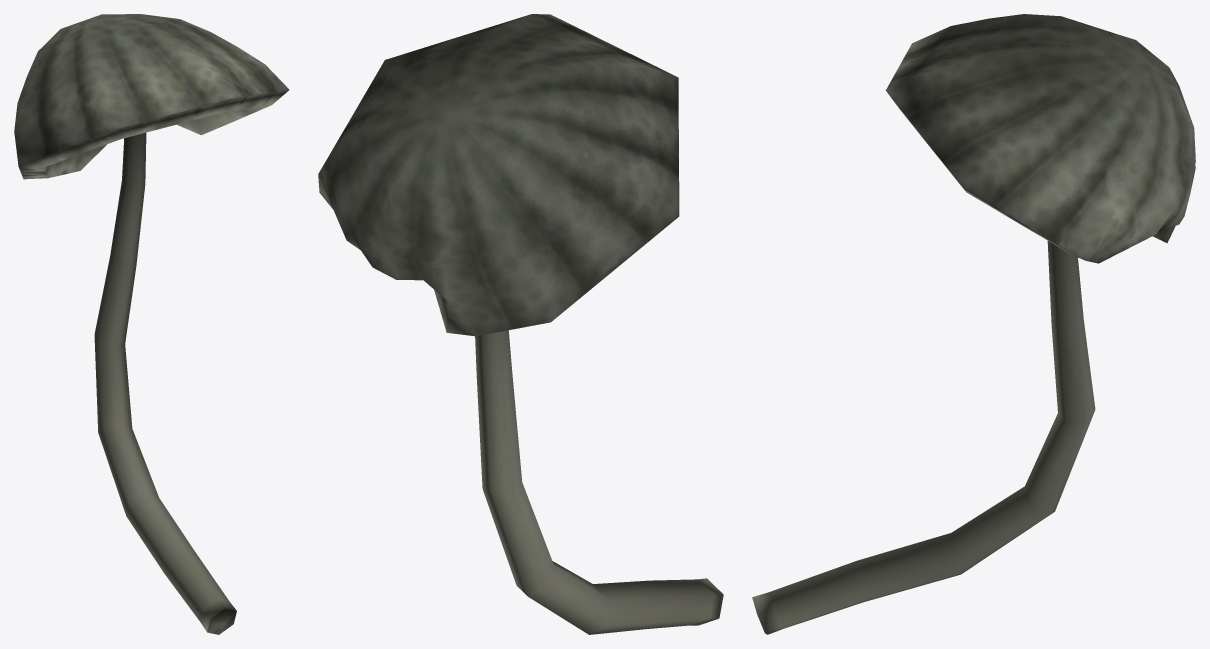
Rendered from cave_mushroom_single_06.dae.
The picture shows the model from 3 angles, left to right: view 1: azimuth 30°, elevation 25°; view 2: azimuth 150°, elevation 25°; view 3: azimuth 270°, elevation 25°; orthographic projection. The views are drawn at different scales.
Parts seen in each view (by area): view 1: single_6; view 2: single_6; view 3: single_6.
Boxes of the visible parts, x1,y1,x2,y2 form: single_6: (14, 14, 289, 634); single_6: (318, 14, 723, 634); single_6: (752, 14, 1195, 634).
Size of the model in its own units: 0.1398 by 0.2754 by 0.1806.
